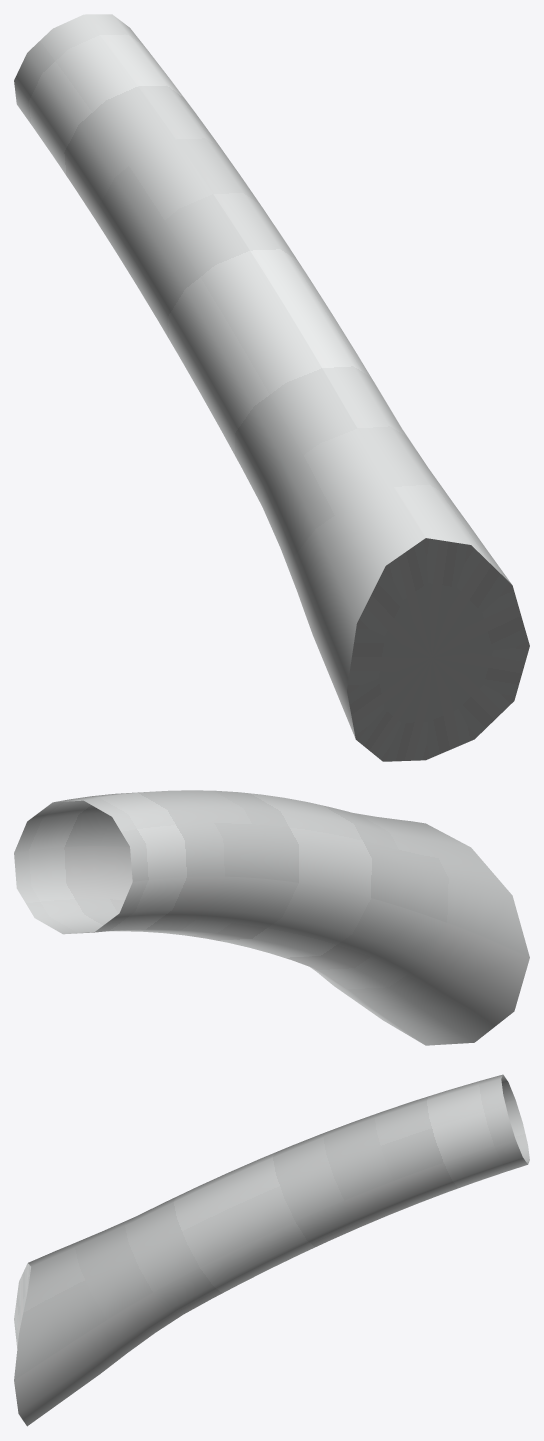
Rendered from luminairearm_caltrans6ft_c0.obj.
3 views of the same model, one above another, from view 1: azimuth 30°, elevation 25°; view 2: azimuth 150°, elevation 25°; view 3: azimuth 270°, elevation 25° (orthographic). The views are drawn at different scales.
Parts seen in each view (by area): view 1: luminairearm_caltrans6ft_c0; view 2: luminairearm_caltrans6ft_c0; view 3: luminairearm_caltrans6ft_c0.
Part boxes in pixels (x1,y1,x2,y2): luminairearm_caltrans6ft_c0: (14, 14, 529, 761); luminairearm_caltrans6ft_c0: (14, 790, 529, 1045); luminairearm_caltrans6ft_c0: (14, 1074, 529, 1426).
Bounding box in the file's own units: 0.3375 × 0.8723 × 1.2.
